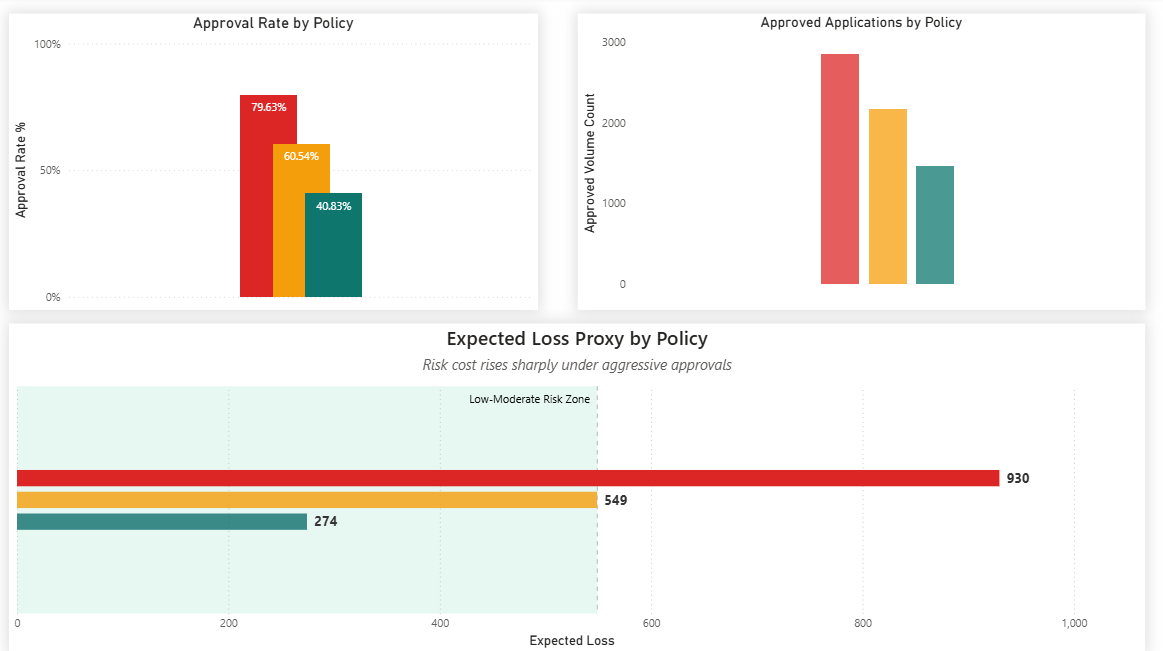

The page's visual inventory and layout, read from the dashboard file:
{"tool":"powerbi","page":{"name":"Policy Trade-off Analysis","canvas":[1280,720],"ordinal":1},"visuals":[{"type":"clusteredColumnChart","title":"Approval Rate by Policy","fields":{"Y":["pd_scoring_output_pbi.Approval Rate (Aggressive)","pd_scoring_output_pbi.Approval Rate (Balanced)","pd_scoring_output_pbi.Approval Rate (Conservative)"]},"box":[11,19.2,580.4,325.2],"z":0},{"type":"clusteredColumnChart","title":"Approved Applications by Policy","fields":{"Y":["pd_scoring_output_pbi.Approved Volume (Aggressive)","pd_scoring_output_pbi.Approved Volume (Balanced)","pd_scoring_output_pbi.Approved Volume (Conservative)"]},"box":[635.3,19.2,623,325.2],"z":1000},{"type":"clusteredBarChart","title":"Expected Loss Proxy by Policy","fields":{"Y":["pd_scoring_output_pbi.Expected Loss (Aggressive)","pd_scoring_output_pbi.Expected Loss (Balanced)","pd_scoring_output_pbi.Expected Loss (Conservative)"]},"box":[11,359.5,1247.3,360.9],"z":2000}]}

Visuals, with their boxes in screenshot pixels (x1, y1, x2, y2), scaled from the page's 1280x720 canvas onto the 1163x651 screenshot:
"Approval Rate by Policy" clusteredColumnChart: region(10, 17, 537, 311)
"Approved Applications by Policy" clusteredColumnChart: region(577, 17, 1143, 311)
"Expected Loss Proxy by Policy" clusteredBarChart: region(10, 325, 1143, 650)
